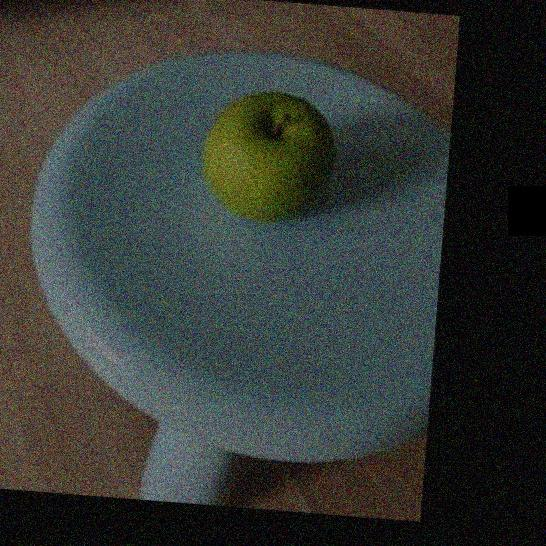green apple: (201, 90, 337, 221)
